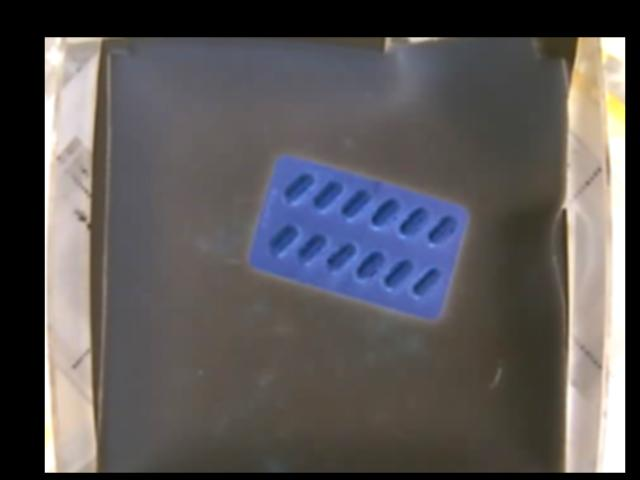Medicine: (251, 156, 469, 319)
